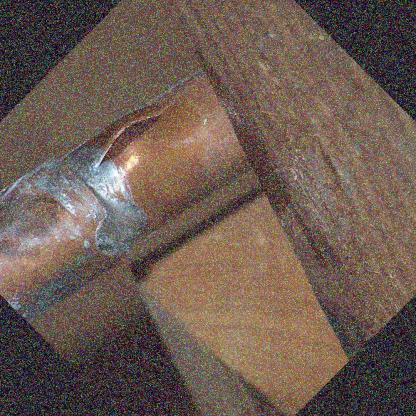burst: (86, 98, 179, 180)
